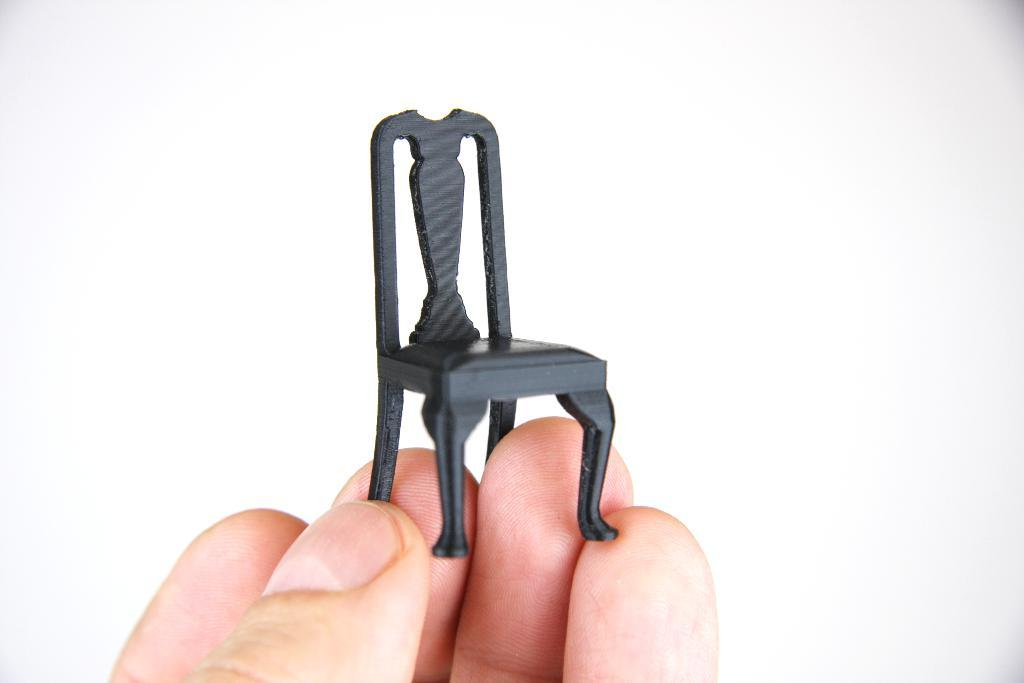Chair: (346, 82, 648, 573)
